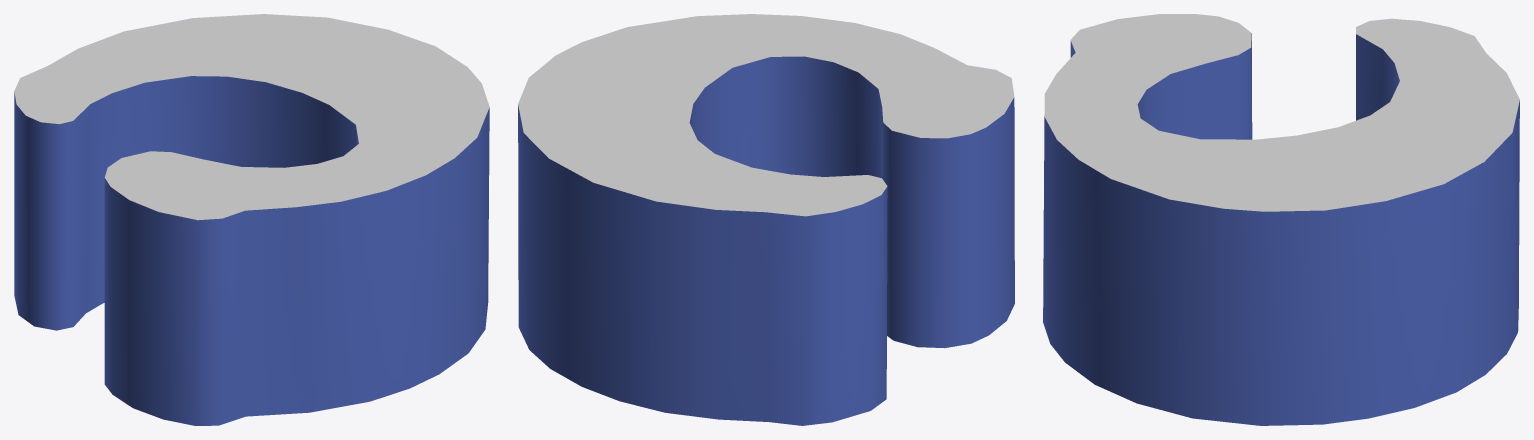
3 views of the same model, side by side, from view 1: azimuth 30°, elevation 25°; view 2: azimuth 150°, elevation 25°; view 3: azimuth 270°, elevation 25° (orthographic). The views are drawn at different scales.
Visible parts, largest first — view 1: C; view 2: C; view 3: C.
Boxes of the visible parts, x1,y1,x2,y2 form: C: [14, 14, 489, 425]; C: [518, 14, 1014, 425]; C: [1043, 14, 1519, 425].
Size of the model in its own units: 1.46 by 0.736 by 1.49.
